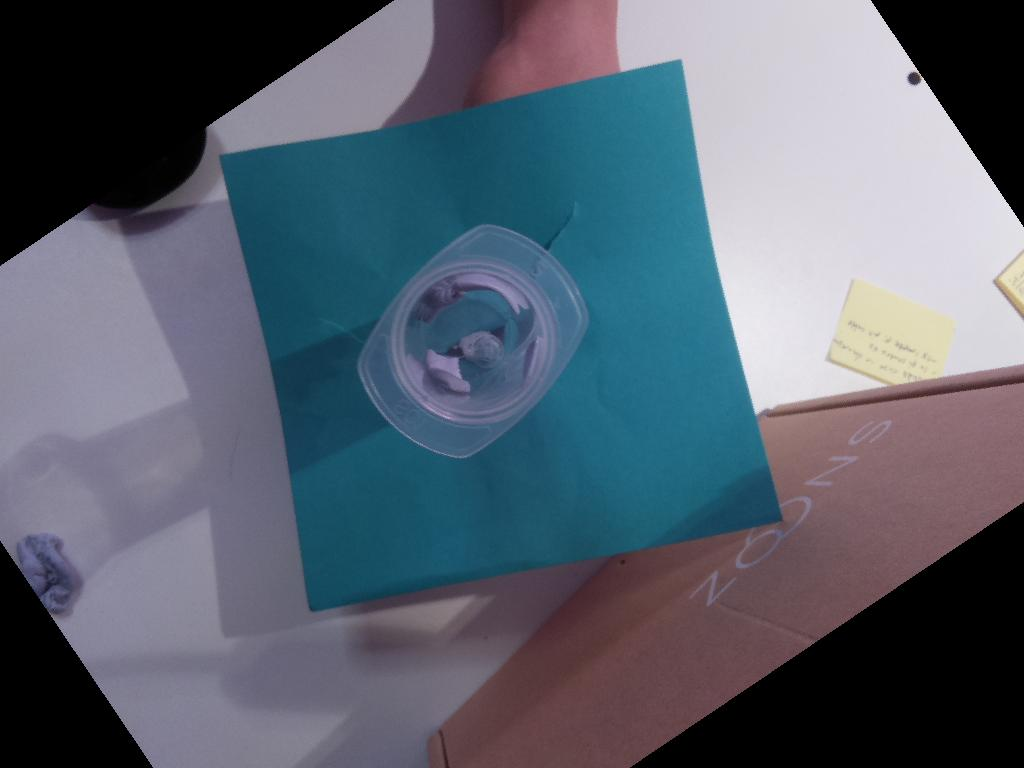dirty: (358, 222, 587, 460)
